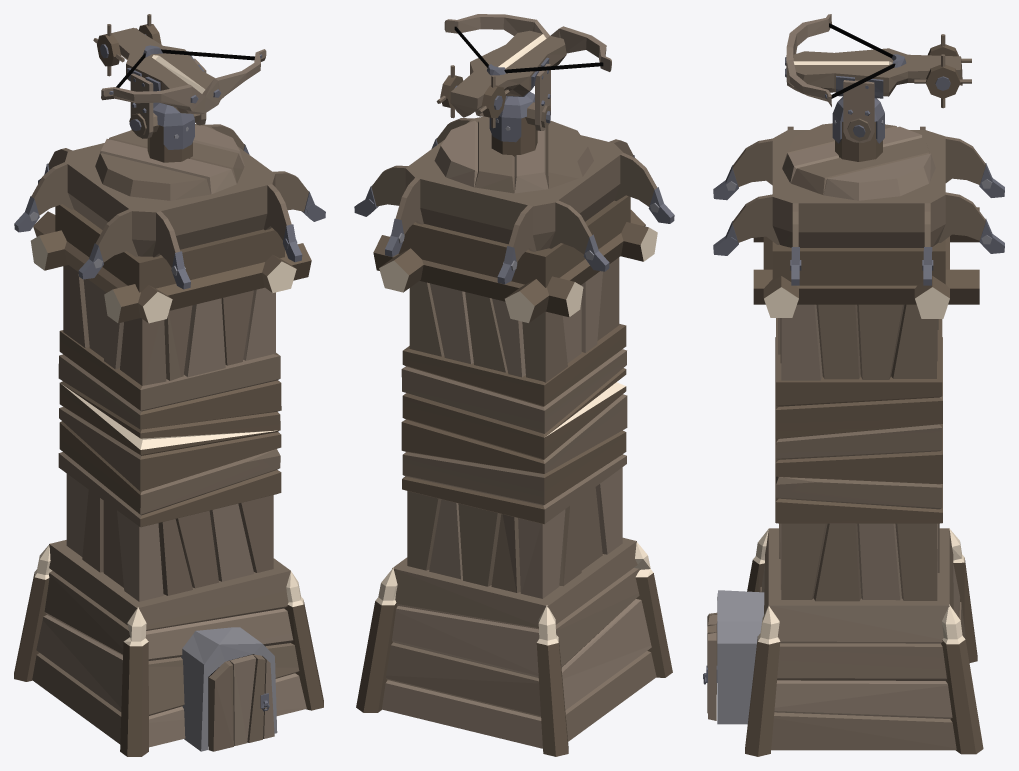
Rendered from _Ballista_tower_LVL_1.fbx.
3 renders of one model, left to right at view 1: azimuth 30°, elevation 25°; view 2: azimuth 150°, elevation 25°; view 3: azimuth 270°, elevation 25°, orthographic. The views are drawn at different scales.
Visible parts, largest first — view 1: Ballista_tower_LVL_1; view 2: Ballista_tower_LVL_1; view 3: Ballista_tower_LVL_1.
Boxes of the visible parts, x1=… form: Ballista_tower_LVL_1: x1=14, y1=14, x2=325, y2=756; Ballista_tower_LVL_1: x1=354, y1=14, x2=674, y2=756; Ballista_tower_LVL_1: x1=703, y1=14, x2=1004, y2=756.
Size of the model in its own units: 684 by 1709 by 708.
